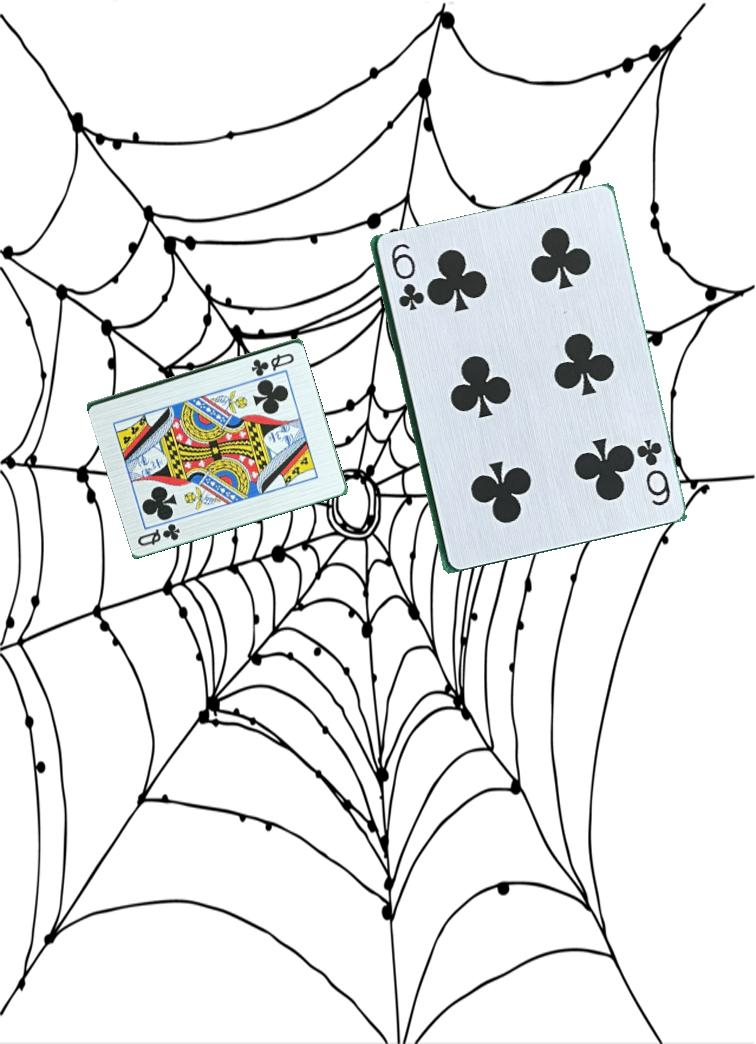6c: (631, 434, 673, 520), (387, 239, 421, 313)
qc: (134, 519, 183, 549), (248, 349, 297, 377)
